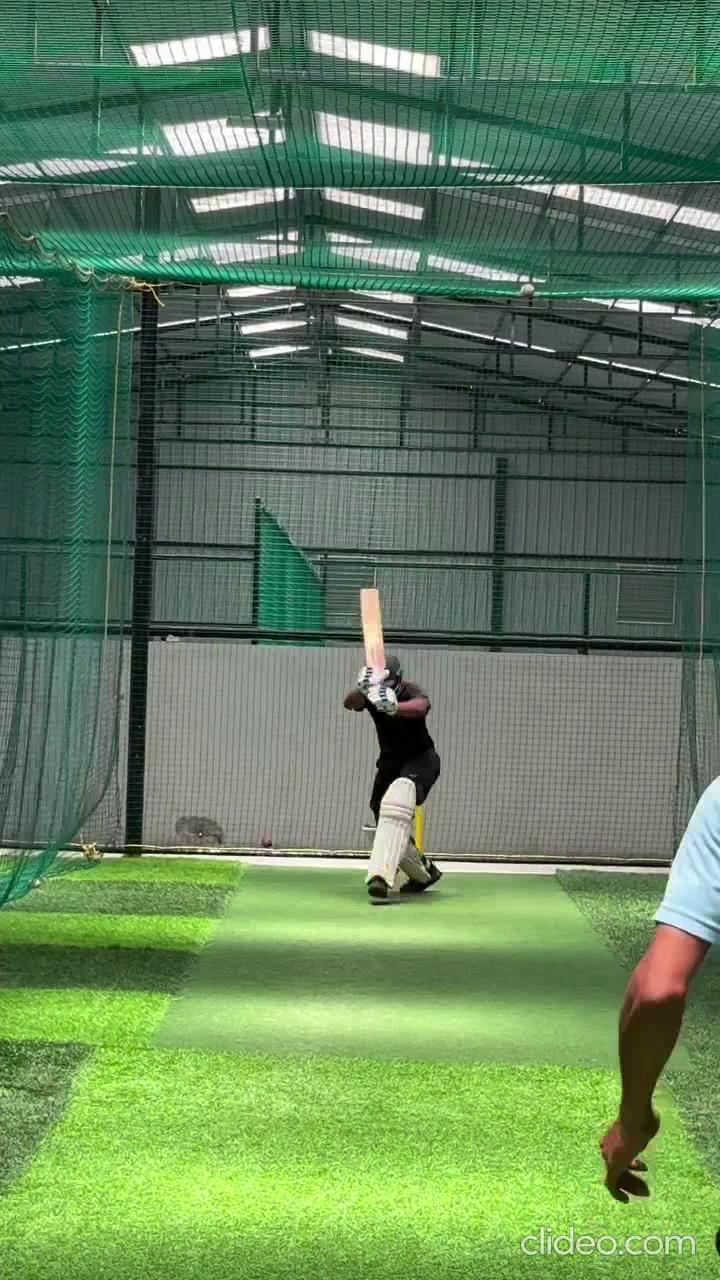bat: (360, 587, 386, 670)
